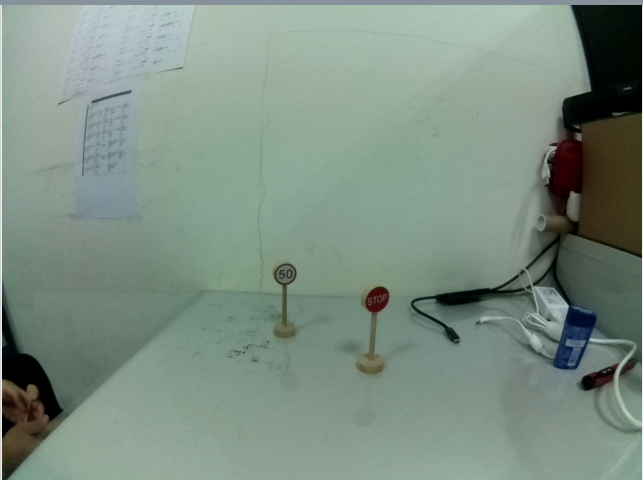Speed50: (272, 260, 299, 287)
Stop: (361, 280, 394, 317)
